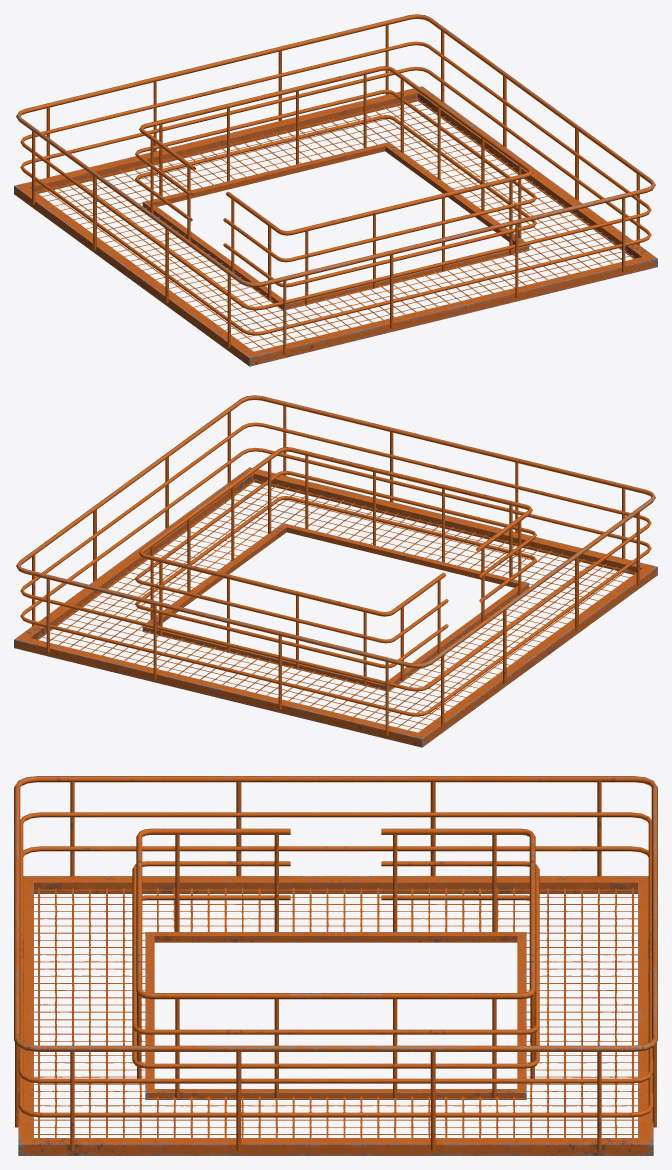
File: Platform_02.fbx
The picture shows the model from 3 angles, top to bottom: view 1: azimuth 30°, elevation 25°; view 2: azimuth 150°, elevation 25°; view 3: azimuth 270°, elevation 25°; orthographic projection. The views are drawn at different scales.
Parts seen in each view (by area): view 1: Platform_02_LOD0; view 2: Platform_02_LOD0; view 3: Platform_02_LOD0.
Part boxes in pixels (x1,y1,x2,y2): Platform_02_LOD0: (14,14,657,366); Platform_02_LOD0: (14,395,657,747); Platform_02_LOD0: (14,776,657,1155).
Size of what is drawn, in the model's own units: 5.15 by 0.9717 by 5.15.
